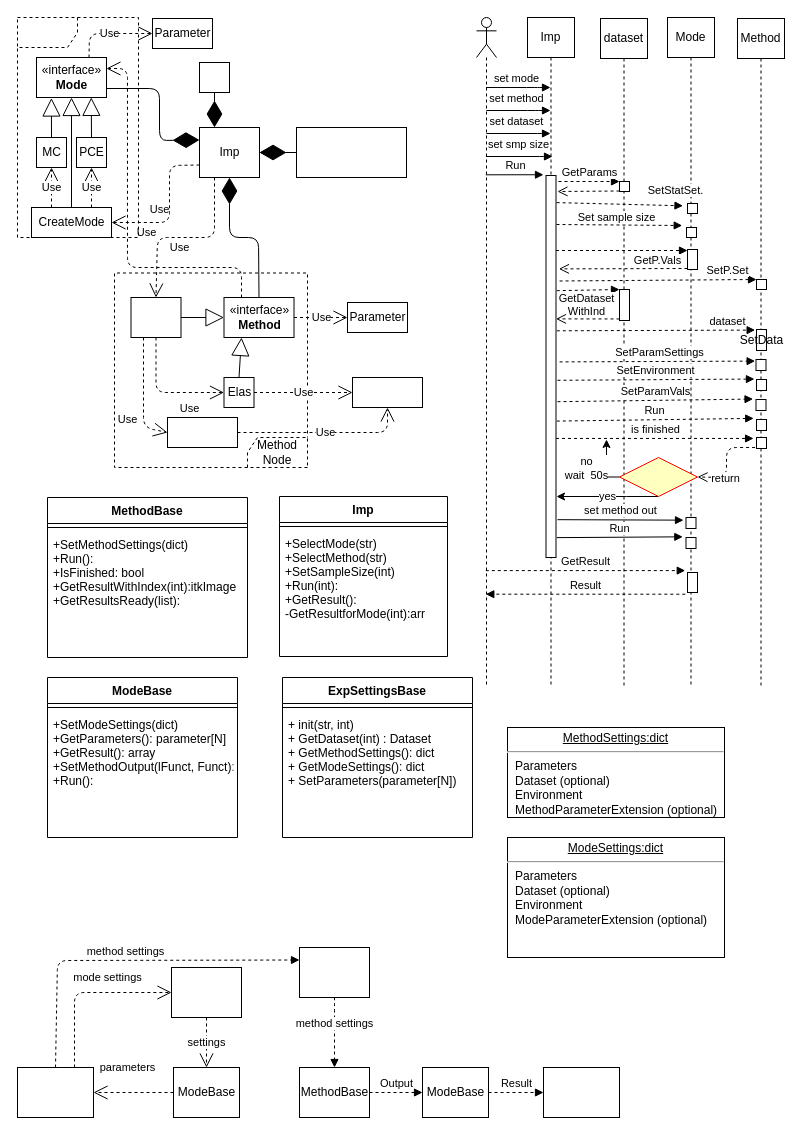
The diagram is 802 pixels wide and 1135 high, and some of its shapes have lost their labels. The centre of each missing label's shape, as x and y in pixels:
"Create Method" belongs at pixel 155 317.
"EnvBase" belongs at pixel 387 392.
"ExperimentSettings" belongs at pixel 351 152.
"ExpSettings Base" belongs at pixel 55 1092.
"IsFinished" belongs at pixel 658 476.
"Itk Hand" belongs at pixel 214 77.
"Method Settings (dict)" belongs at pixel 334 972.
"Mode Node" belongs at pixel 77 127.
"Mode Settings (dict)" belongs at pixel 206 992.
"TestMethod" belongs at pixel 202 432.
"Uncertainty" belongs at pixel 581 1092.
